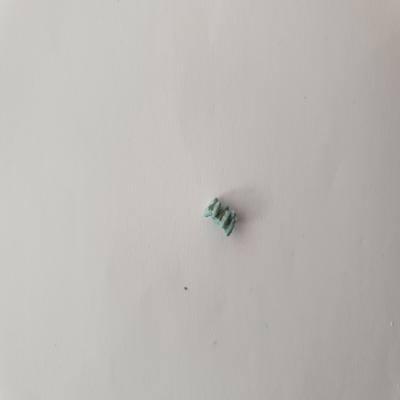plastic: (203, 195, 242, 240)
